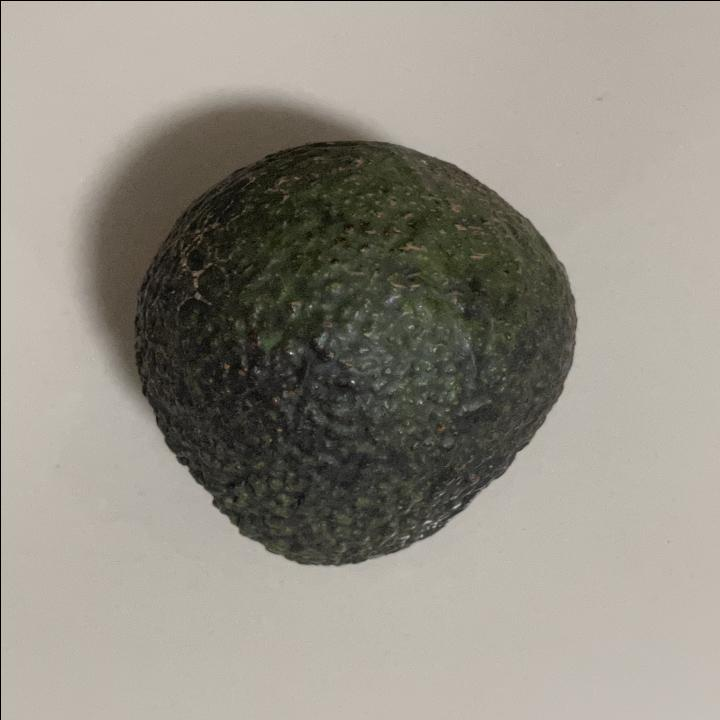Level1: (120, 114, 590, 578)
